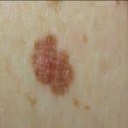Melanoma: (29, 33, 76, 93)
